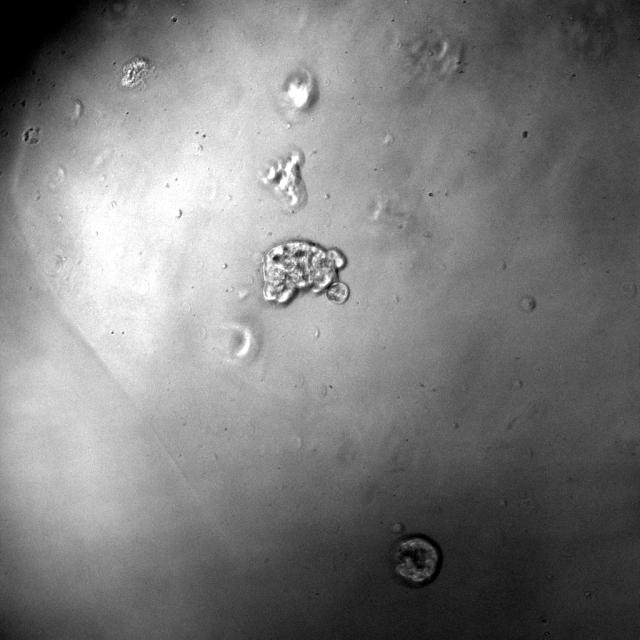organoid: (262, 239, 348, 304), (260, 150, 306, 212), (390, 534, 442, 587), (121, 56, 152, 87)
